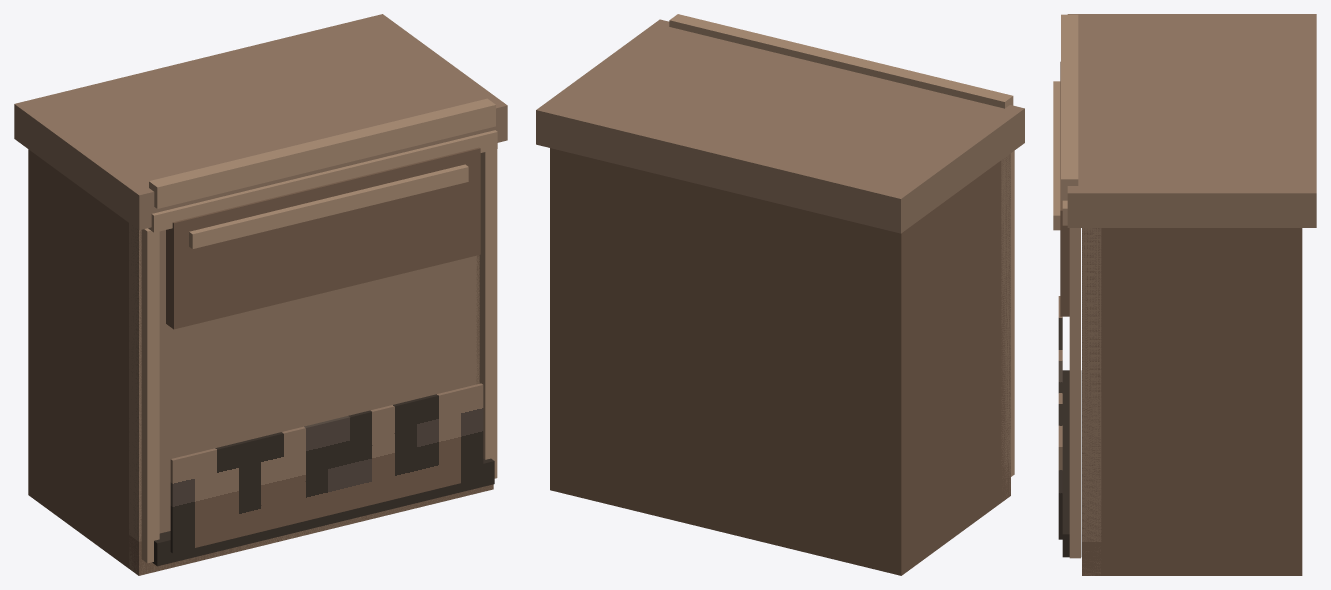
File: CMU3DRMCMRETSEExtraCloud.glb
3 renders of one model, left to right at view 1: azimuth 30°, elevation 25°; view 2: azimuth 150°, elevation 25°; view 3: azimuth 270°, elevation 25°, orthographic.
Visible parts, largest first — view 1: front thick package wall, closed folded top, left full-depth folded side, original ration printed face, broad pressed upper wrapper flap, top closure band, left raised side seam, closed ration floor, right raised side seam, upper flap folded edge, upper neck front folded lip, lower horizontal heat-seal (+1 smaller); view 2: rear thick package wall, closed folded top, left full-depth folded side, closed ration floor, top closure band, right full-depth folded side, front thick package wall, left raised side seam; view 3: right full-depth folded side, closed folded top, closed ration floor, rear thick package wall, front thick package wall, right raised side seam, top closure band, lower horizontal heat-seal, upper flap folded edge, original ration printed face, broad pressed upper wrapper flap.
Boxes of the visible parts, x1,y1,x2,y2 form: front thick package wall: [129, 223, 493, 575]; closed folded top: [14, 14, 507, 230]; left full-depth folded side: [28, 150, 155, 575]; original ration printed face: [170, 383, 483, 553]; broad pressed upper wrapper flap: [166, 147, 480, 329]; top closure band: [149, 98, 495, 208]; left raised side seam: [141, 228, 159, 563]; closed ration floor: [28, 461, 493, 575]; right raised side seam: [479, 149, 497, 478]; upper flap folded edge: [189, 164, 468, 248]; upper neck front folded lip: [148, 130, 497, 232]; lower horizontal heat-seal: [152, 458, 494, 566]; rear thick package wall: [550, 148, 911, 575]; closed folded top: [536, 19, 1024, 233]; left full-depth folded side: [884, 154, 1010, 574]; closed ration floor: [550, 456, 1010, 575]; top closure band: [669, 14, 1013, 108]; right full-depth folded side: [550, 148, 566, 493]; front thick package wall: [1001, 153, 1010, 499]; left raised side seam: [1011, 151, 1014, 476]; right full-depth folded side: [1082, 228, 1302, 575]; closed folded top: [1067, 14, 1316, 227]; closed ration floor: [1082, 542, 1302, 575]; rear thick package wall: [1282, 228, 1302, 575]; front thick package wall: [1082, 228, 1101, 575]; right raised side seam: [1069, 228, 1080, 558]; top closure band: [1061, 14, 1078, 200]; lower horizontal heat-seal: [1062, 370, 1081, 557]; upper flap folded edge: [1053, 81, 1060, 230]; original ration printed face: [1058, 296, 1062, 539]; broad pressed upper wrapper flap: [1060, 61, 1069, 316].
Size of what is drawn, in the model's own units: 0.519 by 0.5305 by 0.3225.
Materials: 5 (1 with a texture image).
